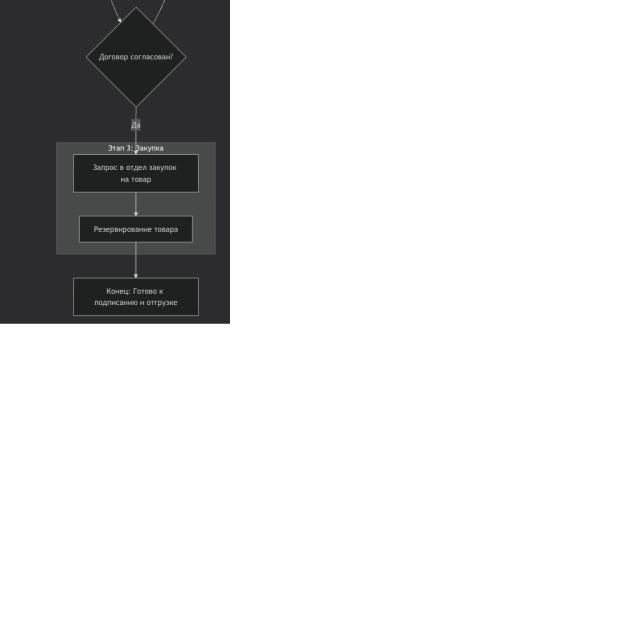arrow: (134, 107, 138, 155), (134, 241, 138, 278), (134, 192, 139, 216)
diamond: (86, 7, 187, 107)
rectangle: (73, 278, 200, 317), (73, 154, 199, 193), (78, 215, 195, 244)
text_region: (108, 143, 163, 153), (132, 119, 141, 131)
